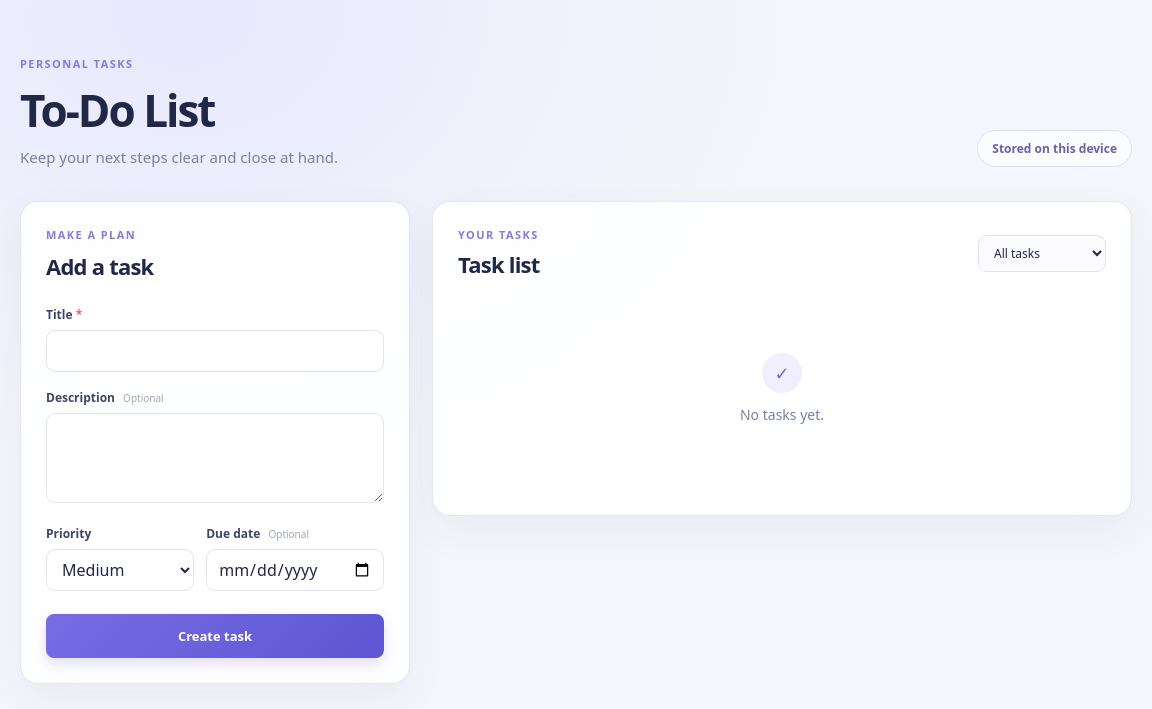
task list and creation UI (P-US-01, P-US-02, P-US-05) › shows server validation errors
Expected: the text "No tasks yet." is shown, [740, 404, 824, 424]
Click the button "Create task": (215, 636) [46, 614, 384, 658]
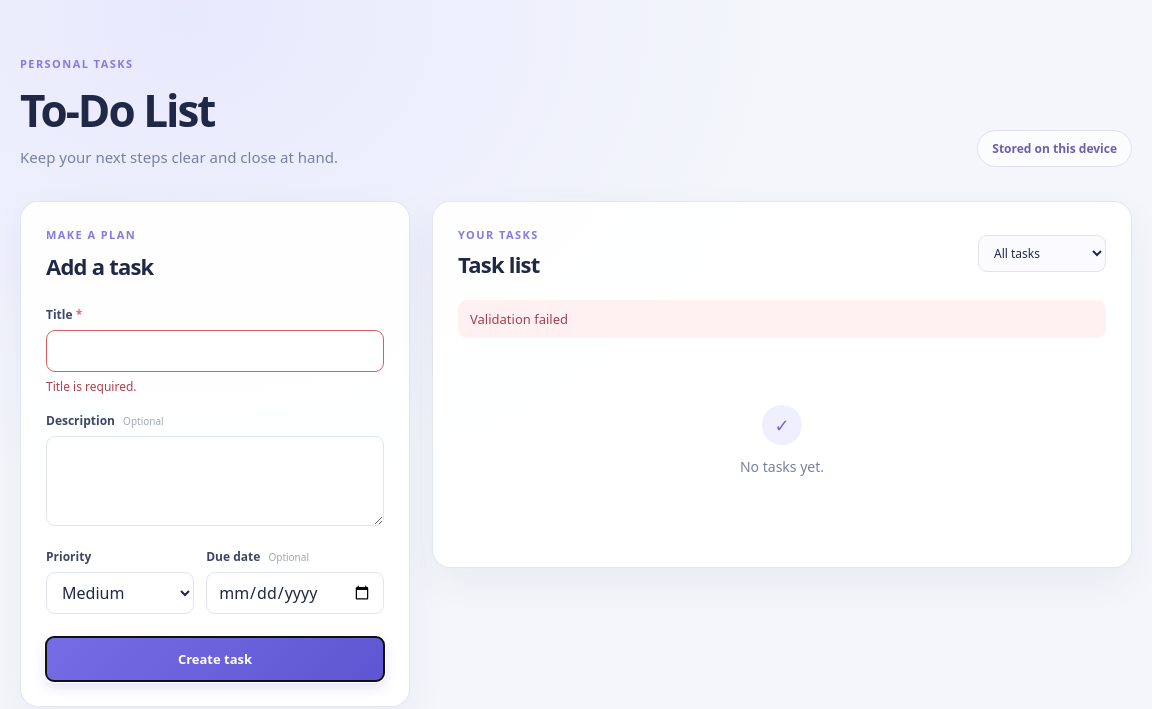
Now the message reads "Validation failed", box [470, 310, 568, 328]
Now the text "Title is required." is shown, box [46, 378, 136, 395]
